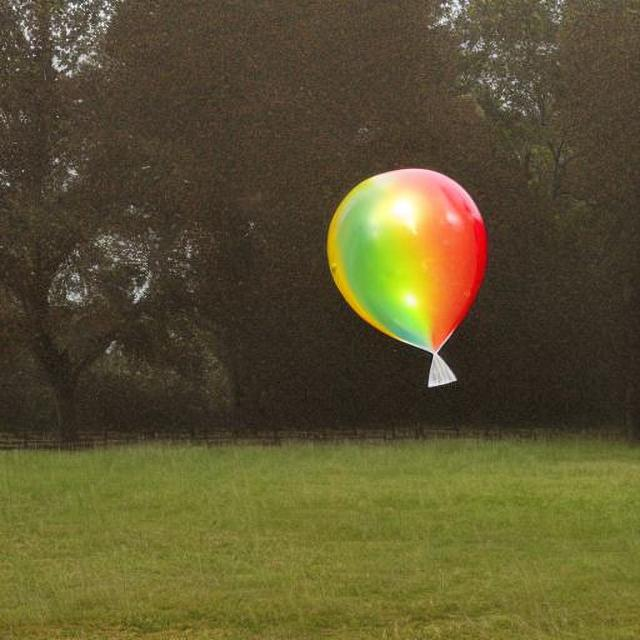balloon: (315, 165, 487, 388)
